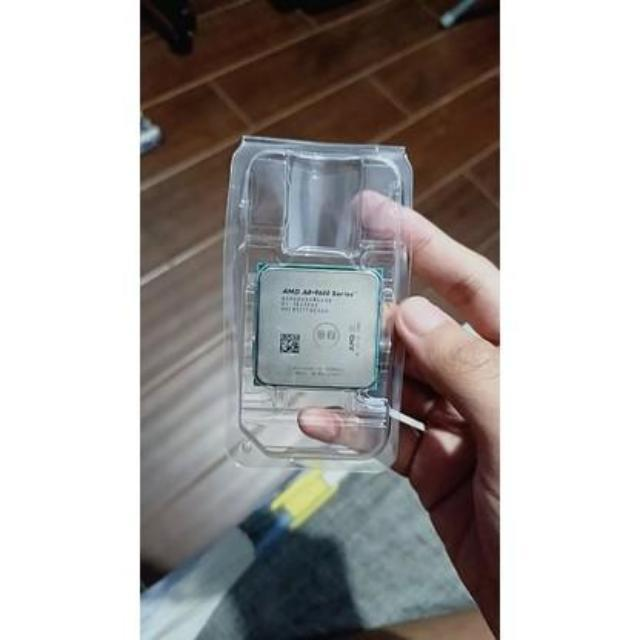CPU: (261, 272, 379, 388)
